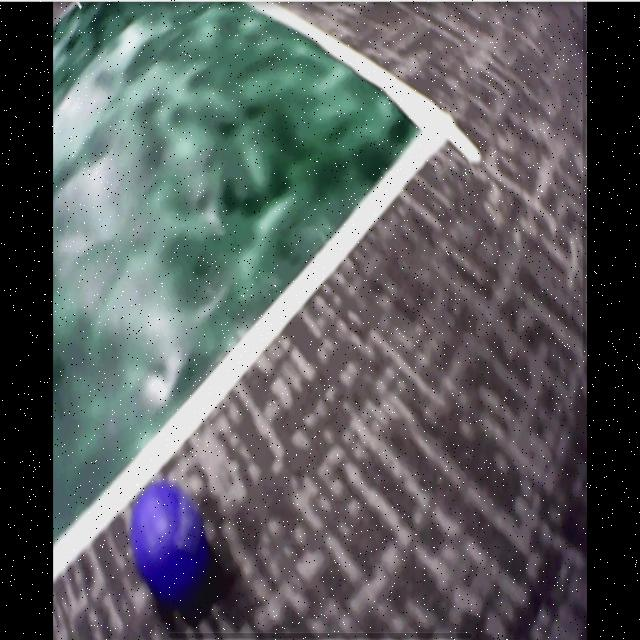ball: (131, 484, 212, 608)
